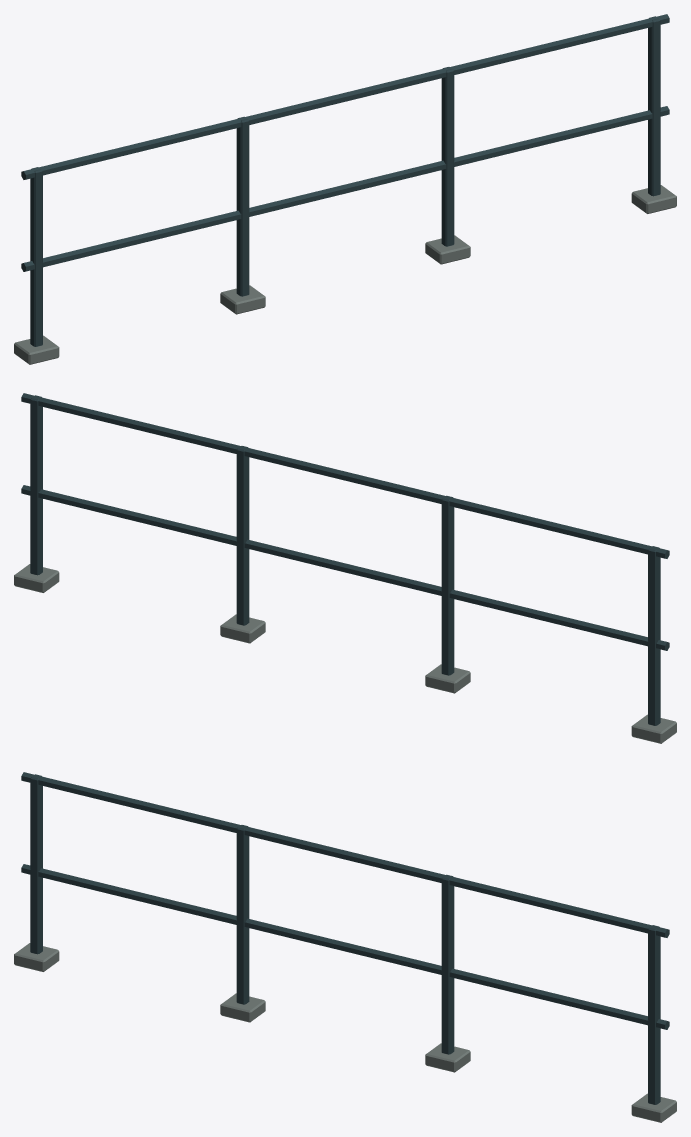
Rendered from guardrail.glb.
3 views of the same model, one above another, from view 1: azimuth 30°, elevation 25°; view 2: azimuth 150°, elevation 25°; view 3: azimuth 330°, elevation 25° (orthographic).
Parts seen in each view (by area): view 1: guardrail__guardrail__steel, guardrail__guardrail__hardware; view 2: guardrail__guardrail__steel, guardrail__guardrail__hardware; view 3: guardrail__guardrail__steel, guardrail__guardrail__hardware.
Boxes of the visible parts, x1,y1,x2,y2 form: guardrail__guardrail__steel: (21,14,669,346); guardrail__guardrail__hardware: (14,185,676,364); guardrail__guardrail__steel: (21,393,669,725); guardrail__guardrail__hardware: (14,564,676,743); guardrail__guardrail__steel: (21,772,669,1104); guardrail__guardrail__hardware: (14,943,676,1122).
Bounding box in the file's own units: 3.99 × 1.11 × 0.17.
